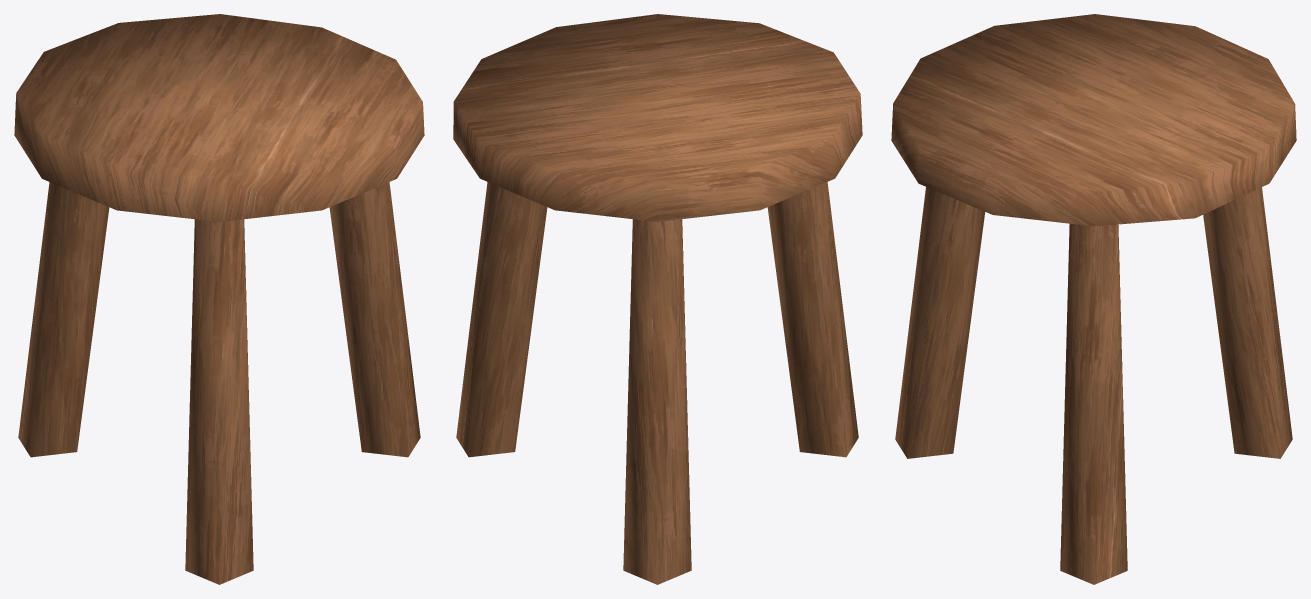
File: Stool.fbx
3 views of the same model, side by side, from view 1: azimuth 30°, elevation 25°; view 2: azimuth 150°, elevation 25°; view 3: azimuth 270°, elevation 25° (orthographic).
Parts seen in each view (by area): view 1: Stool; view 2: Stool; view 3: Stool.
Boxes of the visible parts, x1=… form: Stool: x1=14, y1=14, x2=424, y2=584; Stool: x1=453, y1=14, x2=862, y2=584; Stool: x1=891, y1=14, x2=1296, y2=584.
Size of the model in its own units: 0.5665 by 0.563 by 0.5312.
